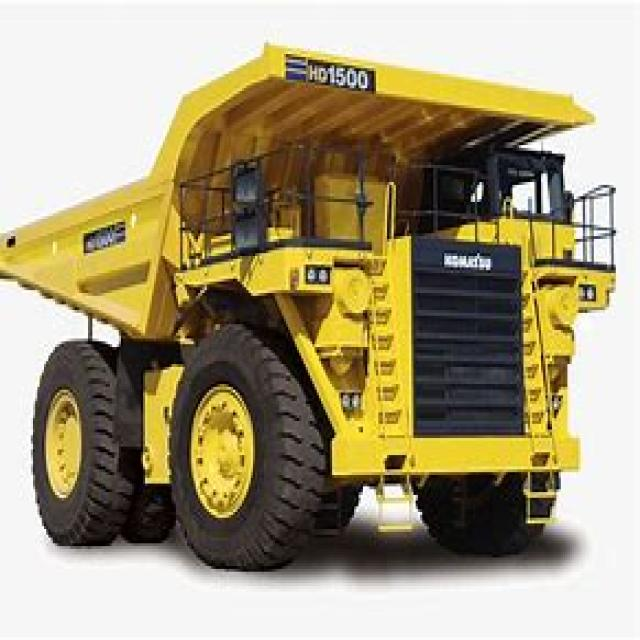dump_truck: (7, 31, 609, 572)
